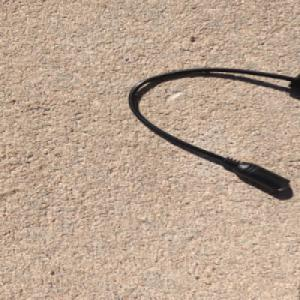Wire: (124, 64, 300, 193)
